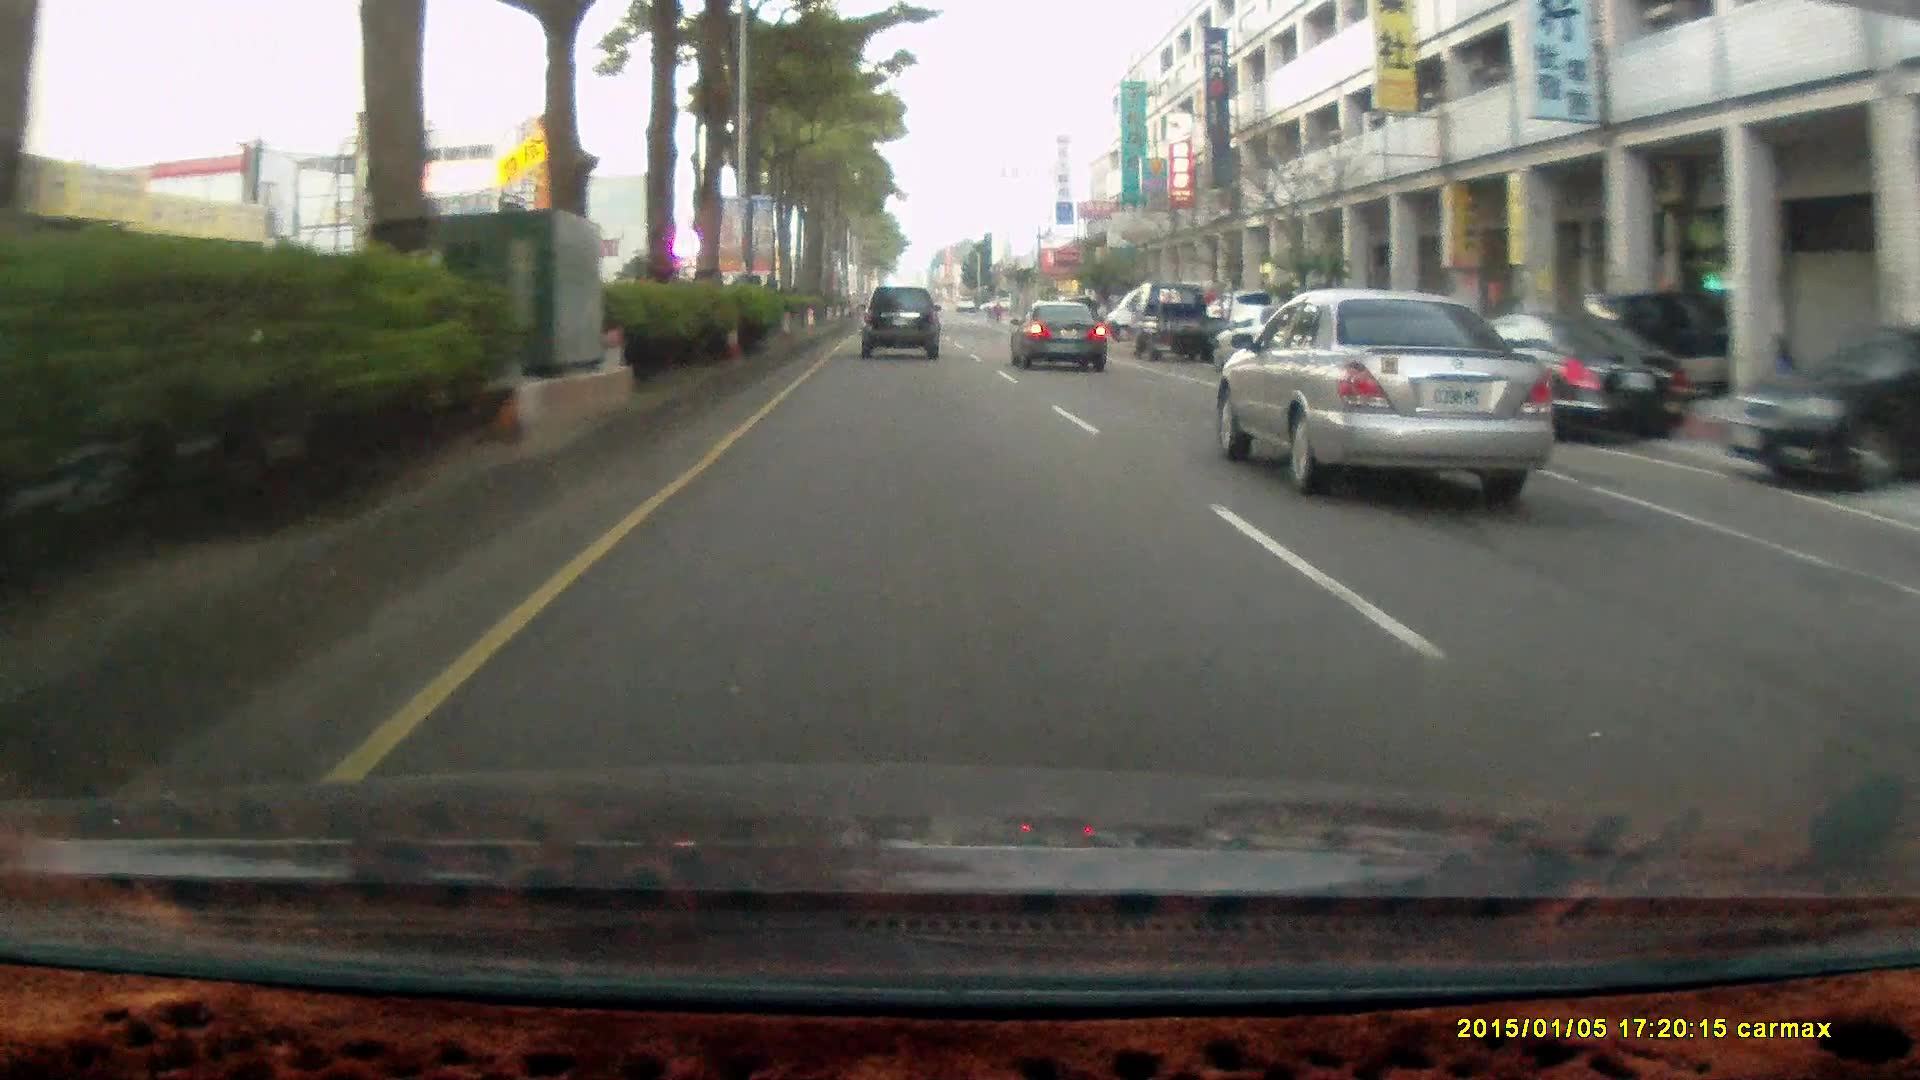vehicle: (1211, 286, 1549, 491), (1420, 306, 1681, 440), (1420, 306, 1680, 439), (1720, 320, 1920, 492), (1720, 319, 1920, 491), (1218, 299, 1345, 378), (1211, 301, 1336, 378), (1134, 280, 1244, 368), (1130, 278, 1228, 361), (1017, 297, 1116, 369), (1007, 297, 1106, 368), (860, 286, 944, 363), (858, 284, 940, 355)
